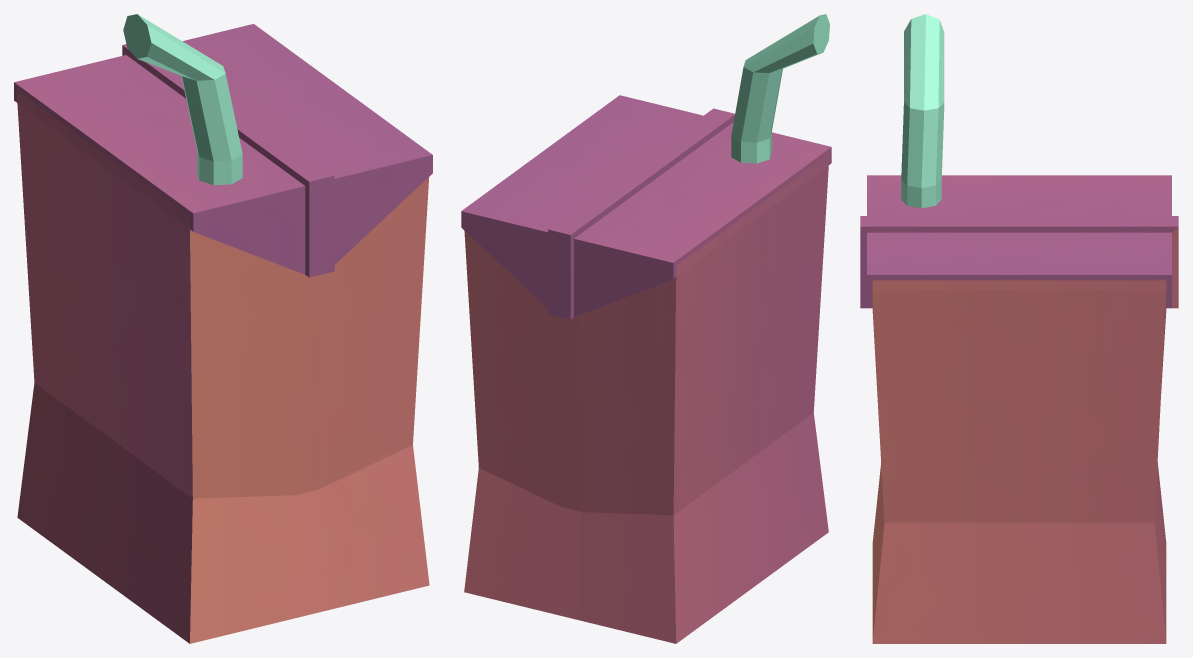
Rendered from Food_Juice.fbx.
The picture shows the model from 3 angles, left to right: view 1: azimuth 30°, elevation 25°; view 2: azimuth 150°, elevation 25°; view 3: azimuth 270°, elevation 25°; orthographic projection. The views are drawn at different scales.
Visible parts, largest first — view 1: Cube.048; view 2: Cube.048; view 3: Cube.048.
Part boxes in pixels (left/top/right/bottom): Cube.048: left=14, top=14, right=432, bottom=643; Cube.048: left=461, top=14, right=831, bottom=643; Cube.048: left=860, top=14, right=1178, bottom=643.
Size of the model in its own units: 8.35 by 18.49 by 10.23.
